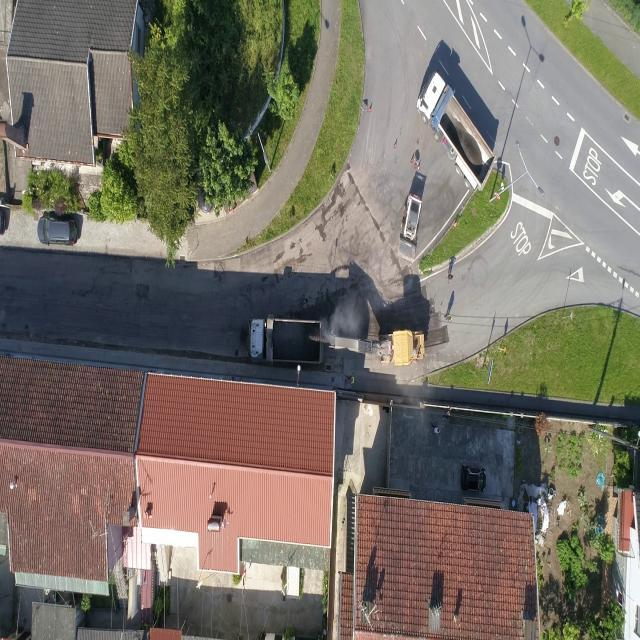vehicle: (418, 70, 496, 192), (248, 317, 328, 363), (334, 328, 424, 368), (397, 193, 422, 263), (38, 214, 78, 244), (461, 464, 487, 492), (444, 407, 454, 420), (348, 375, 356, 385), (444, 312, 452, 322), (446, 272, 454, 282), (432, 426, 440, 434)
